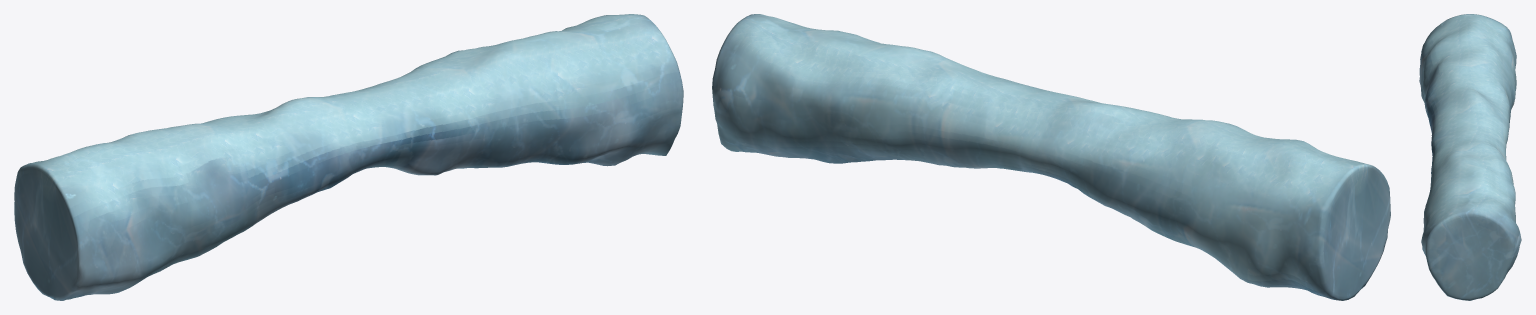
File: MDL_PonteDeGelo.fbx
3 renders of one model, left to right at view 1: azimuth 30°, elevation 25°; view 2: azimuth 150°, elevation 25°; view 3: azimuth 270°, elevation 25°, orthographic. The views are drawn at different scales.
Parts seen in each view (by area): view 1: aaaa2:Group40092; view 2: aaaa2:Group40092; view 3: aaaa2:Group40092.
Part boxes in pixels (x1,y1,x2,y2): aaaa2:Group40092: (14, 14, 683, 300); aaaa2:Group40092: (712, 14, 1390, 300); aaaa2:Group40092: (1419, 14, 1521, 300).
Bounding box in the file's own units: 19.78 × 4.2 × 4.24.
